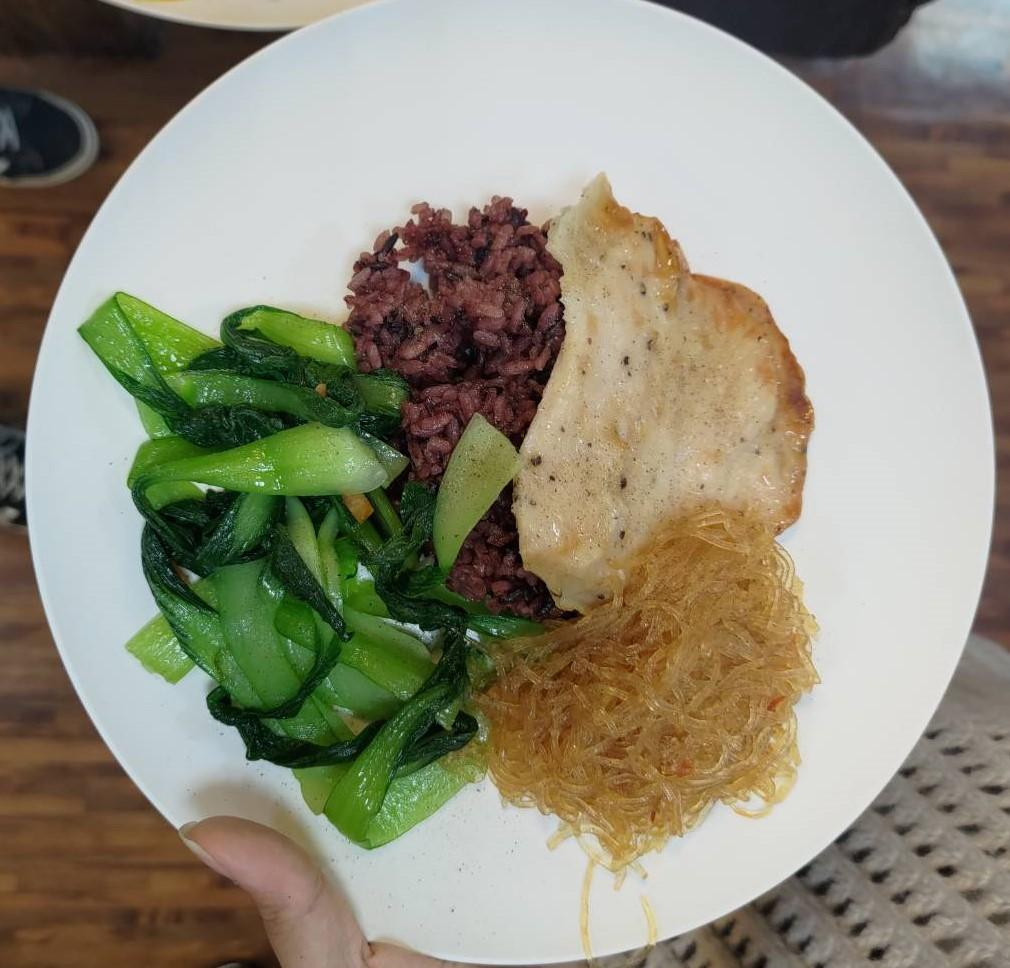big fried chicken leg: (8, 10, 1008, 966)
braised fish: (346, 200, 603, 600)
braised fish fillet: (62, 282, 502, 835), (473, 516, 830, 854)
braised pork: (522, 174, 816, 592)
